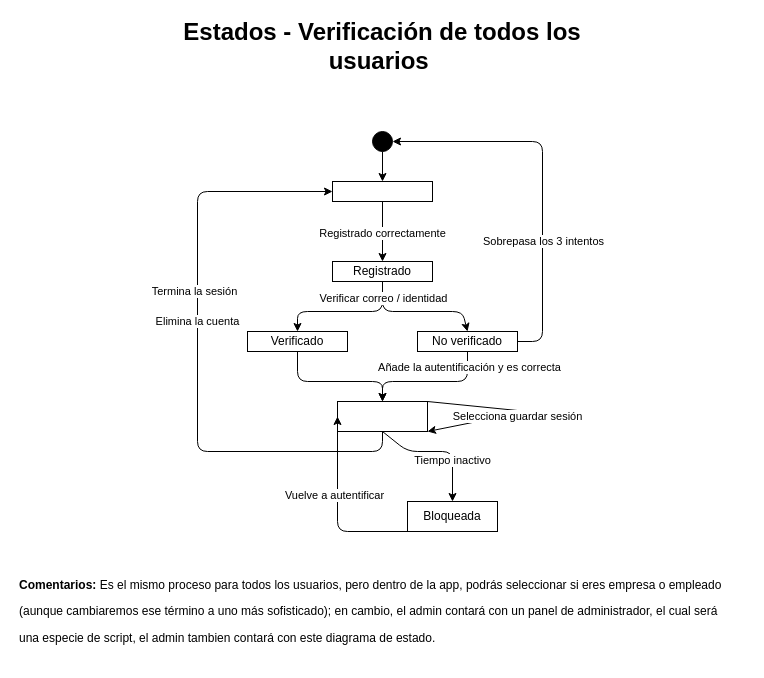
The diagram is 764 pixels wide and 678 high, and some of its shapes have lost their labels. Each missing label, with the centre of its shape:
"Autentificado" goes at point (382, 416).
"No registrado" goes at point (382, 191).
